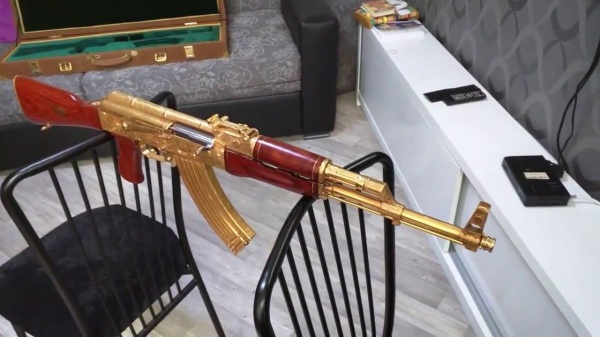ak47: (15, 72, 500, 255)
